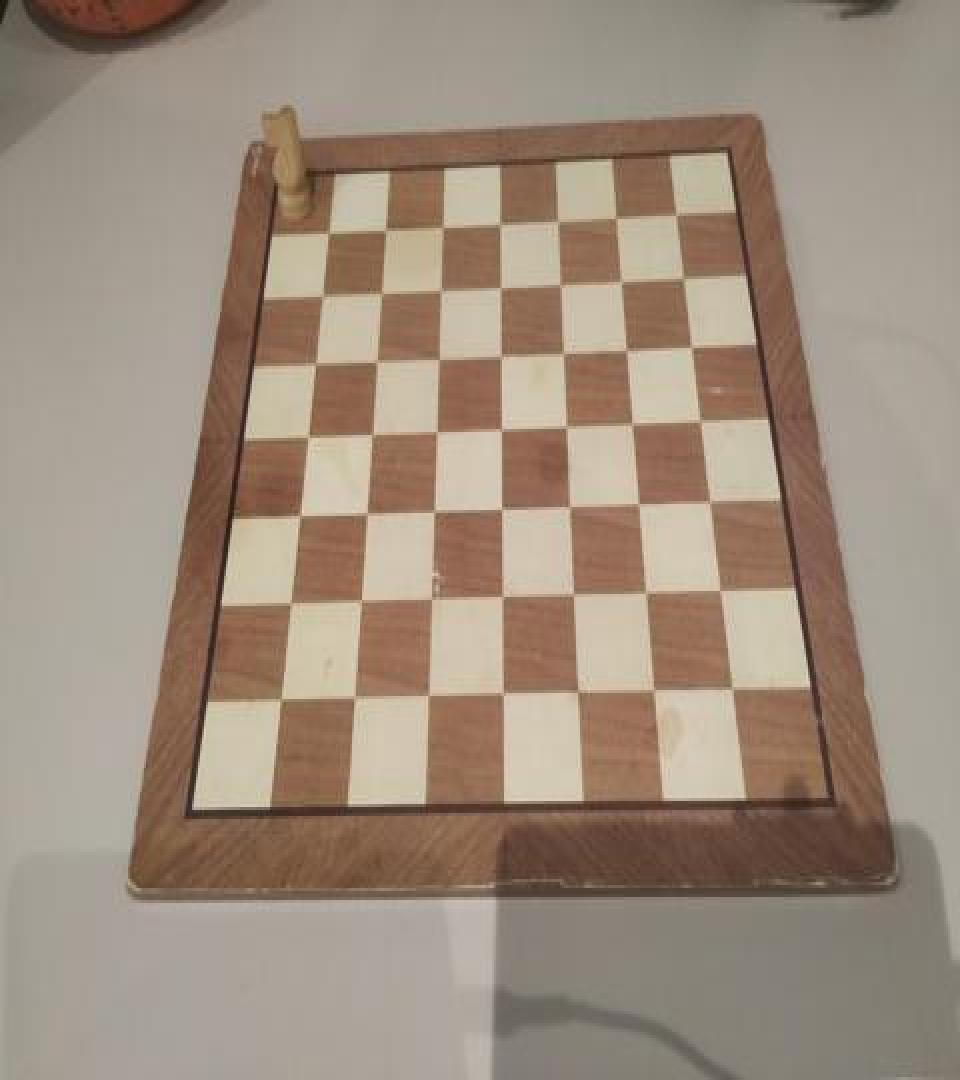xcorner: (358, 499, 378, 530), (273, 684, 293, 714), (421, 681, 441, 711), (496, 680, 516, 710), (571, 680, 591, 710), (647, 678, 667, 708), (723, 676, 743, 706), (283, 588, 303, 618), (424, 585, 444, 615), (495, 584, 515, 614), (567, 582, 587, 612), (712, 579, 732, 609), (291, 501, 311, 531), (426, 498, 446, 528), (494, 495, 514, 525), (563, 494, 583, 524), (632, 492, 652, 522), (701, 490, 721, 520), (299, 422, 319, 452), (363, 418, 383, 448), (428, 417, 448, 447), (493, 416, 513, 446), (559, 412, 579, 442), (625, 411, 645, 441), (692, 410, 712, 440), (306, 346, 326, 376), (368, 345, 388, 375), (430, 344, 450, 374), (493, 340, 513, 370), (556, 339, 576, 369), (619, 336, 639, 366), (683, 334, 703, 364), (312, 279, 332, 309), (372, 278, 392, 308), (432, 274, 452, 304), (492, 273, 512, 303), (553, 270, 573, 300), (614, 268, 634, 298), (675, 266, 695, 296), (318, 216, 338, 246), (376, 213, 396, 243), (433, 212, 453, 242), (492, 208, 512, 238), (550, 207, 570, 237), (609, 204, 629, 234), (668, 202, 688, 232), (347, 683, 367, 712), (353, 587, 373, 616), (639, 581, 659, 610)
